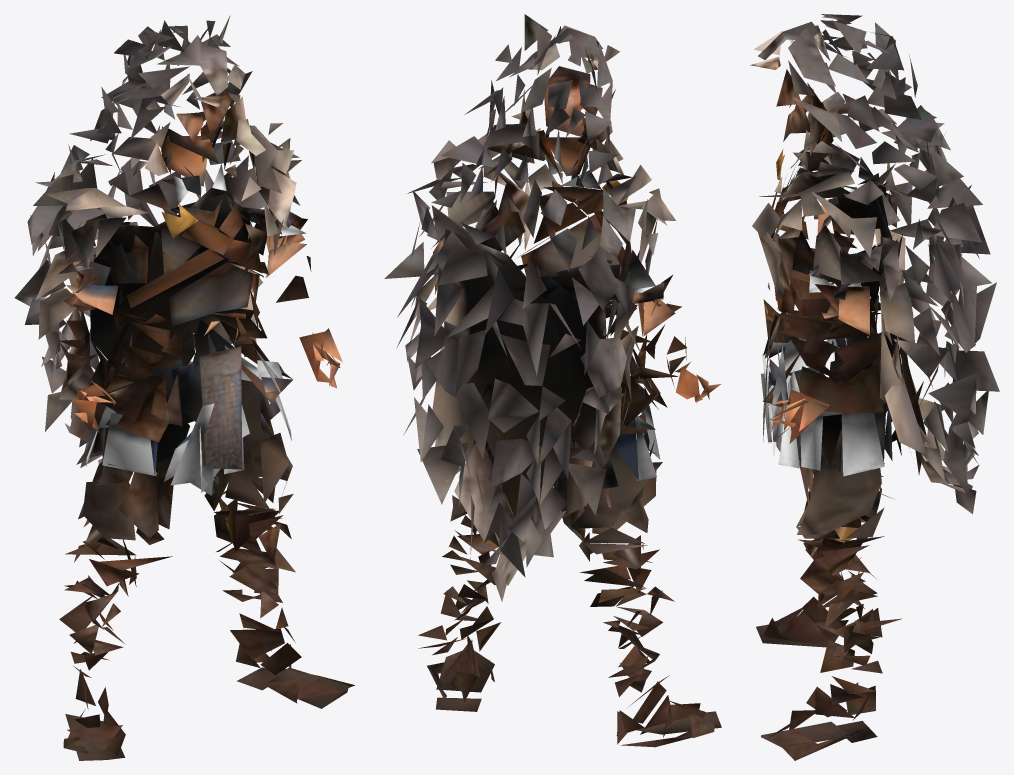
The model's file is ulfhednar_lod.glb.
3 views of the same model, side by side, from view 1: azimuth 30°, elevation 25°; view 2: azimuth 150°, elevation 25°; view 3: azimuth 270°, elevation 25° (orthographic).
Visible parts, largest first — view 1: titus; view 2: titus; view 3: titus.
Part boxes in pixels (x1,y1,x2,y2): titus: [14, 15, 354, 760]; titus: [384, 14, 721, 747]; titus: [750, 14, 999, 760].
Bounding box in the file's own units: 0.847 × 1.93 × 0.6449.
2 materials, 2 textured.
